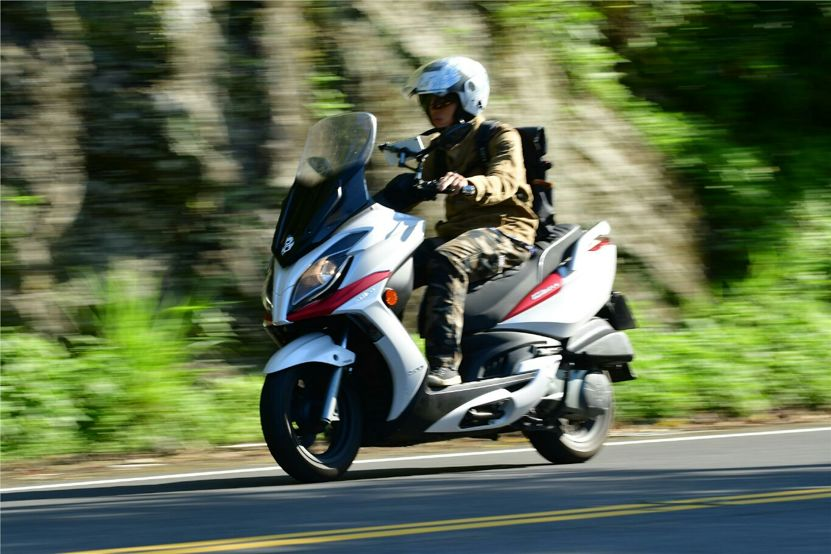helmet: (409, 61, 495, 127)
